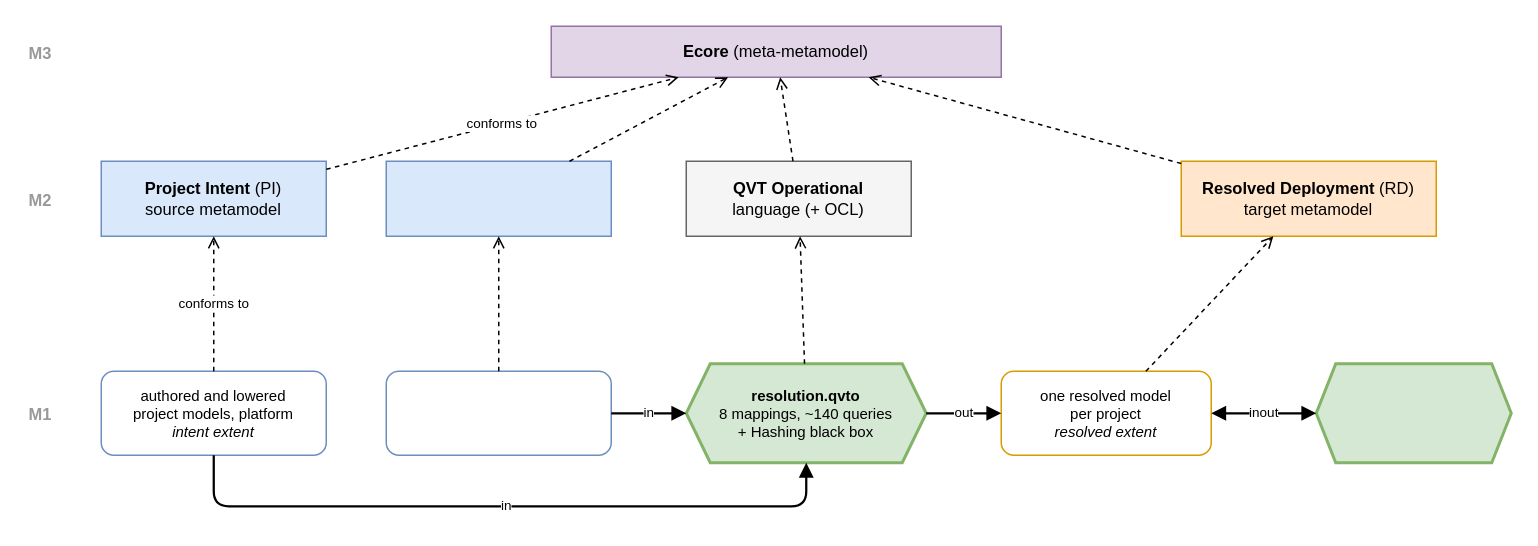
This 1538x546 diagram has some shape labels left out. The shapes that lost their labels are listed below. From the top down, each one's box as (x1, y1, x2, y2) in pixels, then its label:
(385, 160, 611, 236): Pinned Inputs (IN) new in Task 2
(385, 370, 611, 455): contract, lock, snapshot, proofs, Asset files pinned extent
(1314, 362, 1512, 464): estate.qvto inout over all resolved models
